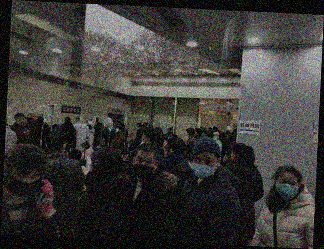with_mask: (7, 170, 43, 197), (190, 155, 216, 181), (274, 178, 300, 203), (133, 154, 155, 181), (14, 118, 25, 127), (192, 130, 198, 137), (115, 126, 120, 134), (79, 145, 84, 152), (135, 125, 140, 131)
without_mask: (225, 133, 231, 141)
